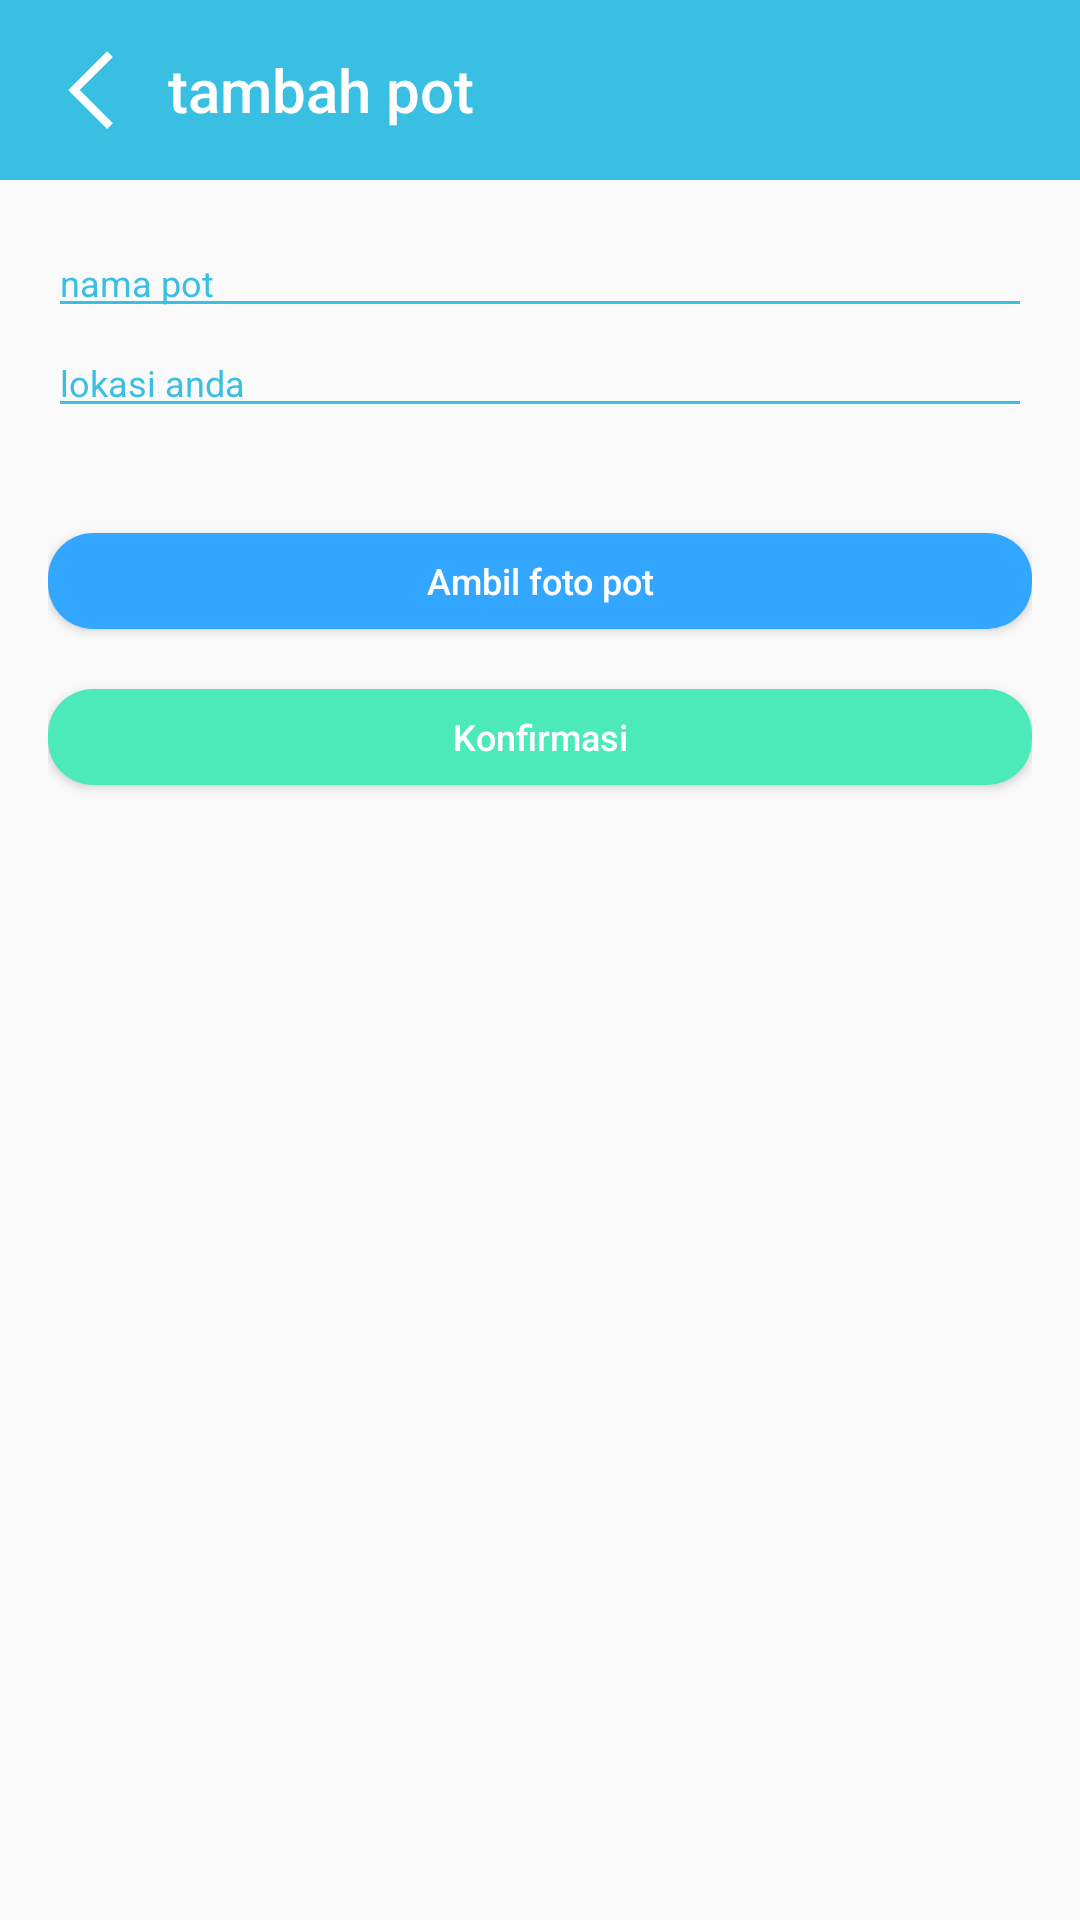

Icon bounding boxes for this 1080*1920 phone screenshot, format region(x1, y1, x2, y2):
back: region(68, 51, 113, 129)
